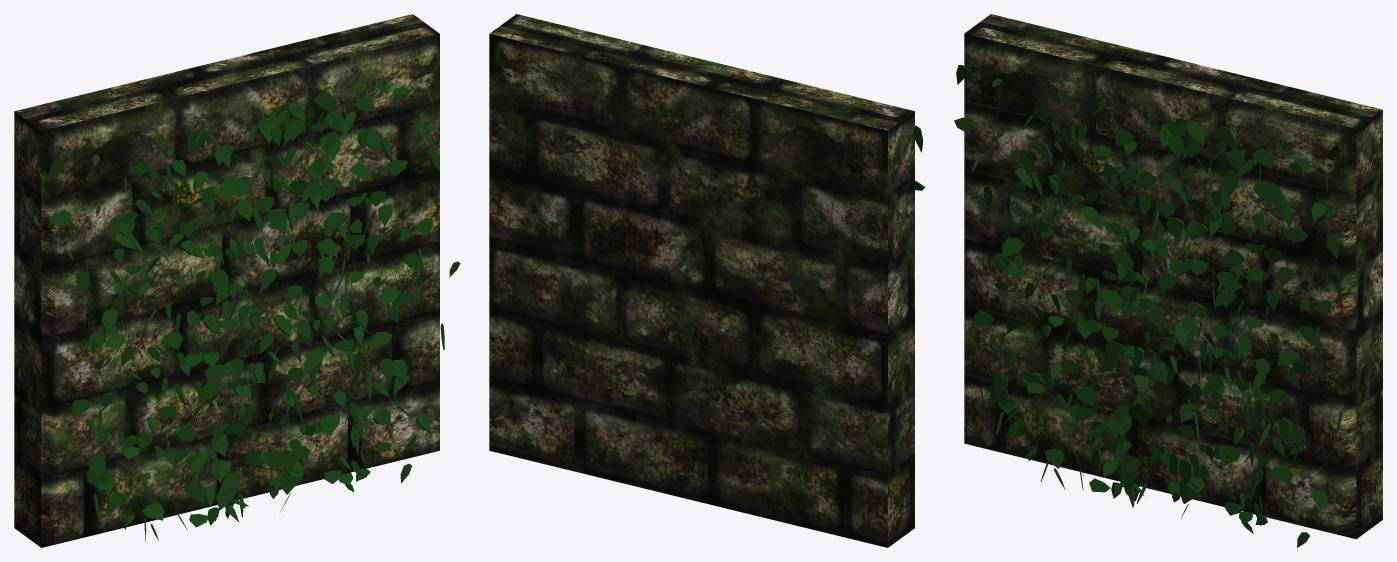
File: Wall7.1.fbx
3 views of the same model, side by side, from view 1: azimuth 30°, elevation 25°; view 2: azimuth 150°, elevation 25°; view 3: azimuth 330°, elevation 25° (orthographic).
Visible parts, largest first — view 1: Wall7.1_LOD0; view 2: Wall7.1_LOD0; view 3: Wall7.1_LOD0.
Part boxes in pixels (bbox=[...]): Wall7.1_LOD0: bbox=[14, 14, 460, 547]; Wall7.1_LOD0: bbox=[489, 14, 925, 547]; Wall7.1_LOD0: bbox=[954, 14, 1382, 547].
Size of what is drawn, in the model's own units: 206 by 208 by 36.69.
